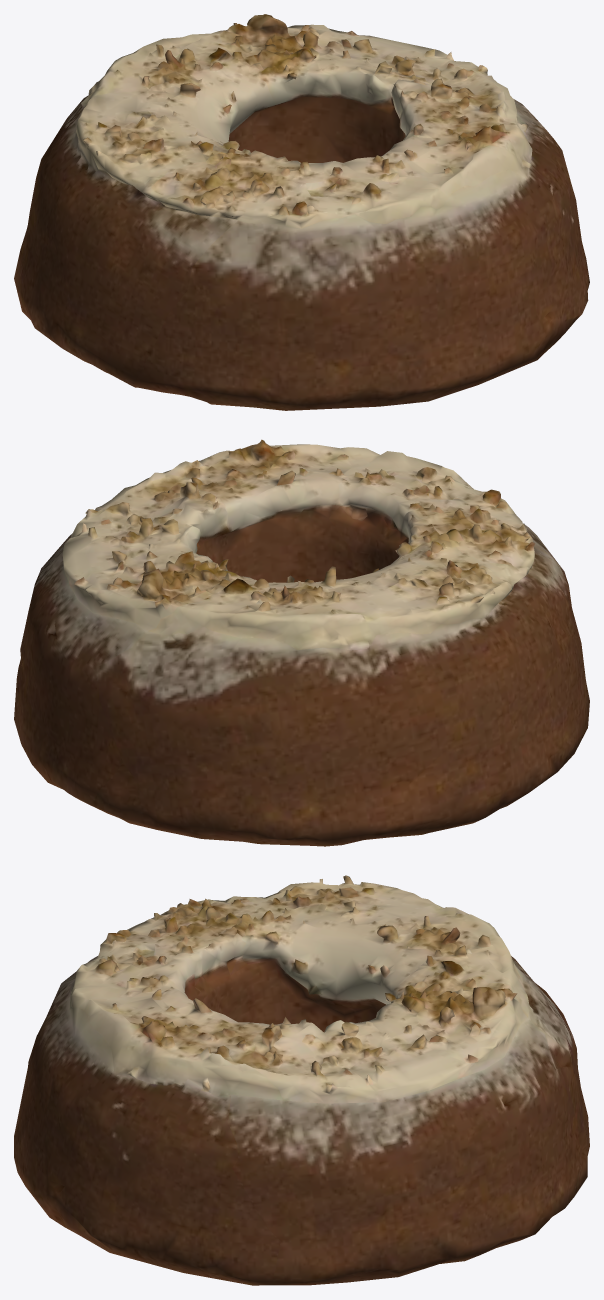
File: carrot_cake.7d6b6800.glb
The picture shows the model from 3 angles, top to bottom: view 1: azimuth 30°, elevation 25°; view 2: azimuth 150°, elevation 25°; view 3: azimuth 270°, elevation 25°; orthographic projection. The views are drawn at different scales.
Visible parts, largest first — view 1: carrot_cake; view 2: carrot_cake; view 3: carrot_cake.
Boxes of the visible parts, box(x1,y1,x2,y2) form: carrot_cake: box(14, 14, 589, 410); carrot_cake: box(14, 439, 589, 846); carrot_cake: box(14, 875, 589, 1285).
Bounding box in the file's own units: 0.7201 × 0.3116 × 0.72.
Materials: 1 (1 with a texture image).
